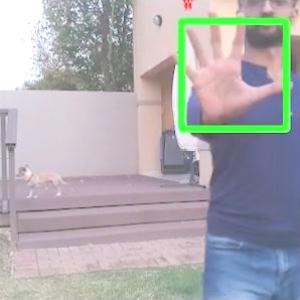follow_hand: (166, 3, 290, 124)
